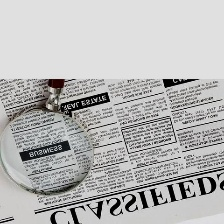news_paper: (0, 76, 224, 224)
